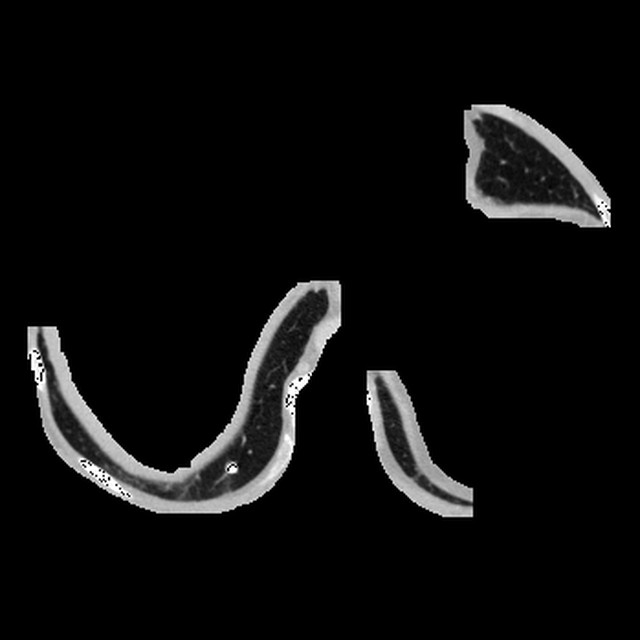PN: (224, 460, 238, 475)
